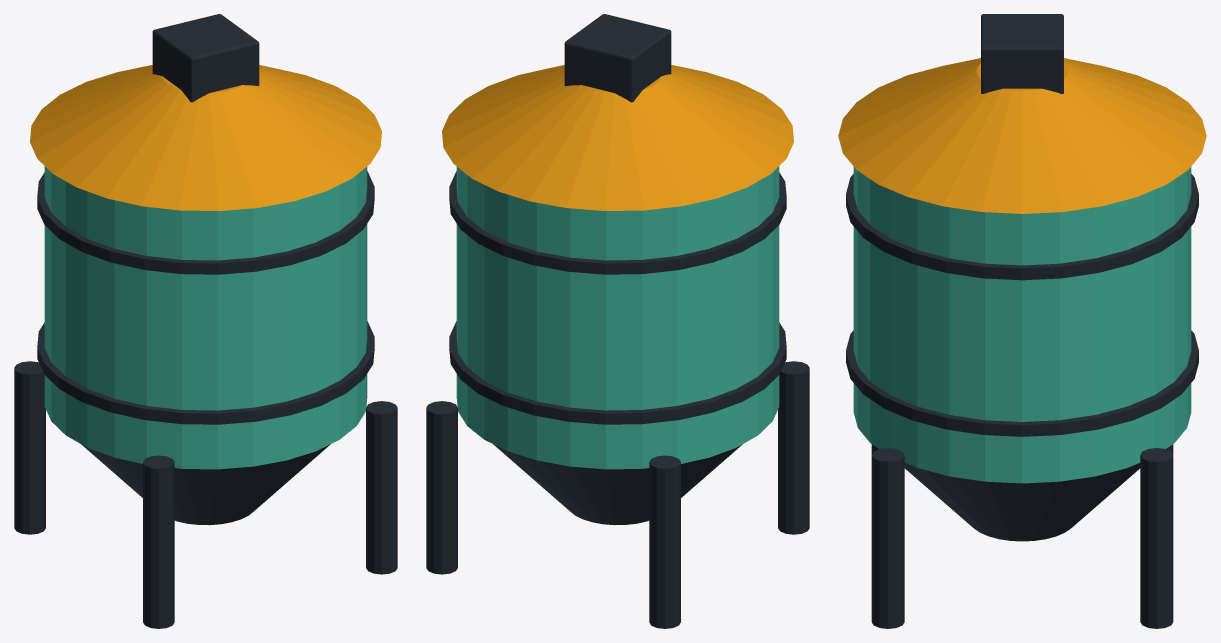
Rendered from coal_silo_sl601.glb.
The picture shows the model from 3 angles, left to right: view 1: azimuth 30°, elevation 25°; view 2: azimuth 150°, elevation 25°; view 3: azimuth 270°, elevation 25°; orthographic projection. The views are drawn at different scales.
Visible parts, largest first — view 1: SL601_Cylinder, SL601_RoofCap, SL601_Headhouse, SL601_HopperCone, SL601_BandLower, SL601_BandUpper, SL601_SupportLeg_2, SL601_SupportLeg_1, SL601_SupportLeg_3; view 2: SL601_Cylinder, SL601_RoofCap, SL601_Headhouse, SL601_HopperCone, SL601_BandLower, SL601_BandUpper, SL601_SupportLeg_4, SL601_SupportLeg_3, SL601_SupportLeg_1; view 3: SL601_Cylinder, SL601_RoofCap, SL601_HopperCone, SL601_Headhouse, SL601_BandLower, SL601_BandUpper, SL601_SupportLeg_2, SL601_SupportLeg_4.
Boxes of the visible parts, bbox=[...] form: SL601_Cylinder: bbox=[44, 166, 367, 469]; SL601_RoofCap: bbox=[30, 65, 381, 210]; SL601_Headhouse: bbox=[152, 14, 259, 102]; SL601_HopperCone: bbox=[81, 444, 330, 525]; SL601_BandLower: bbox=[37, 321, 374, 424]; SL601_BandUpper: bbox=[37, 171, 374, 274]; SL601_SupportLeg_2: bbox=[366, 401, 397, 574]; SL601_SupportLeg_1: bbox=[143, 455, 174, 628]; SL601_SupportLeg_3: bbox=[14, 361, 45, 534]; SL601_Cylinder: bbox=[456, 166, 779, 469]; SL601_RoofCap: bbox=[442, 65, 793, 210]; SL601_Headhouse: bbox=[564, 14, 671, 102]; SL601_HopperCone: bbox=[493, 444, 742, 525]; SL601_BandLower: bbox=[449, 321, 786, 424]; SL601_BandUpper: bbox=[449, 171, 786, 274]; SL601_SupportLeg_4: bbox=[426, 401, 457, 574]; SL601_SupportLeg_3: bbox=[649, 455, 680, 628]; SL601_SupportLeg_1: bbox=[778, 361, 809, 534]; SL601_Cylinder: bbox=[853, 167, 1191, 483]; SL601_RoofCap: bbox=[838, 58, 1206, 213]; SL601_HopperCone: bbox=[904, 463, 1140, 541]; SL601_Headhouse: bbox=[981, 14, 1063, 93]; SL601_BandLower: bbox=[846, 330, 1198, 436]; SL601_BandUpper: bbox=[846, 174, 1198, 280]; SL601_SupportLeg_2: bbox=[871, 448, 904, 628]; SL601_SupportLeg_4: bbox=[1140, 448, 1173, 628].
Bounding box in the file's own units: 2.88 × 4.61 × 2.88.
